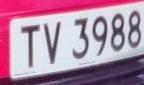3: (69, 13, 92, 65)
8: (126, 6, 144, 57), (109, 10, 127, 57)
9: (90, 12, 110, 61)
T: (18, 21, 44, 74)
V: (40, 19, 66, 69)
